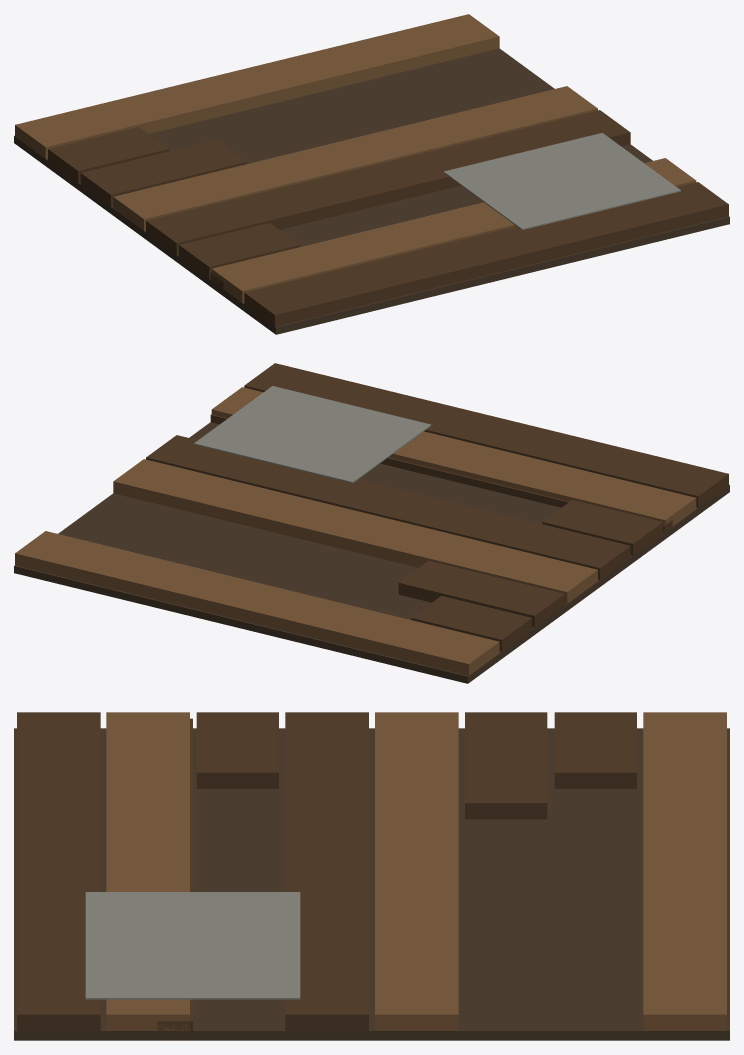
Rendered from ruins_house_floor.glb.
3 renders of one model, top to bottom at view 1: azimuth 30°, elevation 25°; view 2: azimuth 150°, elevation 25°; view 3: azimuth 270°, elevation 25°, orthographic. The views are drawn at different scales.
Parts seen in each view (by area): view 1: ruins_house_floor_mesh; view 2: ruins_house_floor_mesh; view 3: ruins_house_floor_mesh.
Boxes of the visible parts, <box> form: ruins_house_floor_mesh: <box>14,14,729,334</box>; ruins_house_floor_mesh: <box>14,363,729,683</box>; ruins_house_floor_mesh: <box>14,712,729,1040</box>.
Bounding box in the file's own units: 2 × 0.085 × 2.
